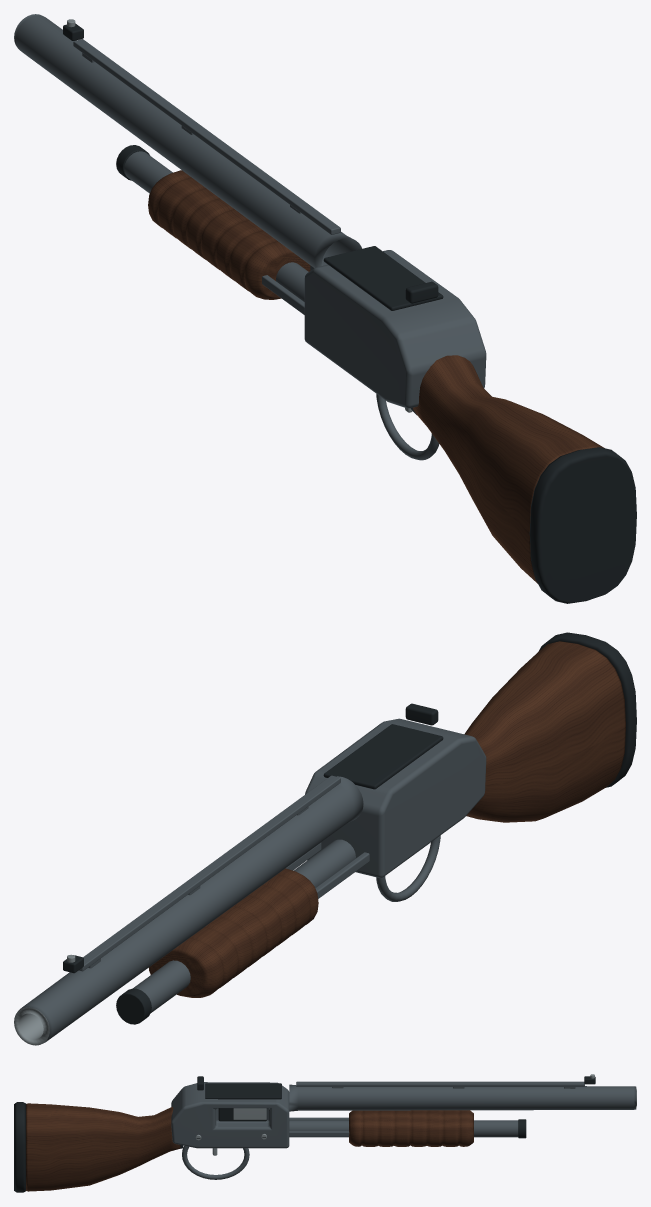
3 renders of one model, top to bottom at view 1: azimuth 30°, elevation 25°; view 2: azimuth 150°, elevation 25°; view 3: azimuth 270°, elevation 25°, orthographic. The views are drawn at different scales.
Visible parts, largest first — view 1: ShotgunBody_Blued_steel, ShotgunBody_Oxidised_recesses_and_rubber, ShotgunBody_Dark_walnut, ShotgunPump_Dark_walnut; view 2: ShotgunBody_Blued_steel, ShotgunBody_Dark_walnut, ShotgunPump_Dark_walnut, ShotgunBody_Oxidised_recesses_and_rubber, ShotgunBody_Machined_steel_edges, ShotgunPump_Blued_steel; view 3: ShotgunBody_Blued_steel, ShotgunBody_Dark_walnut, ShotgunPump_Dark_walnut, ShotgunBody_Oxidised_recesses_and_rubber, ShotgunPump_Blued_steel, ShotgunBody_Machined_steel_edges.
Part boxes in pixels (bbox=[...]): ShotgunBody_Blued_steel: bbox=[14, 14, 486, 460]; ShotgunBody_Oxidised_recesses_and_rubber: bbox=[63, 23, 636, 603]; ShotgunBody_Dark_walnut: bbox=[413, 355, 604, 583]; ShotgunPump_Dark_walnut: bbox=[148, 170, 310, 299]; ShotgunBody_Blued_steel: bbox=[18, 718, 486, 1042]; ShotgunBody_Dark_walnut: bbox=[464, 641, 625, 822]; ShotgunPump_Dark_walnut: bbox=[149, 868, 318, 997]; ShotgunBody_Oxidised_recesses_and_rubber: bbox=[63, 632, 636, 1024]; ShotgunBody_Machined_steel_edges: bbox=[14, 954, 75, 1045]; ShotgunPump_Blued_steel: bbox=[286, 843, 369, 898]; ShotgunBody_Blued_steel: bbox=[171, 1081, 636, 1179]; ShotgunBody_Dark_walnut: bbox=[26, 1103, 180, 1191]; ShotgunPump_Dark_walnut: bbox=[349, 1110, 473, 1146]; ShotgunBody_Oxidised_recesses_and_rubber: bbox=[14, 1076, 595, 1192]; ShotgunPump_Blued_steel: bbox=[289, 1117, 349, 1136]; ShotgunBody_Machined_steel_edges: bbox=[195, 1074, 636, 1155].
Size of the model in its own units: 0.324 by 0.621 by 3.09.
Materials: 4 (1 with a texture image).
